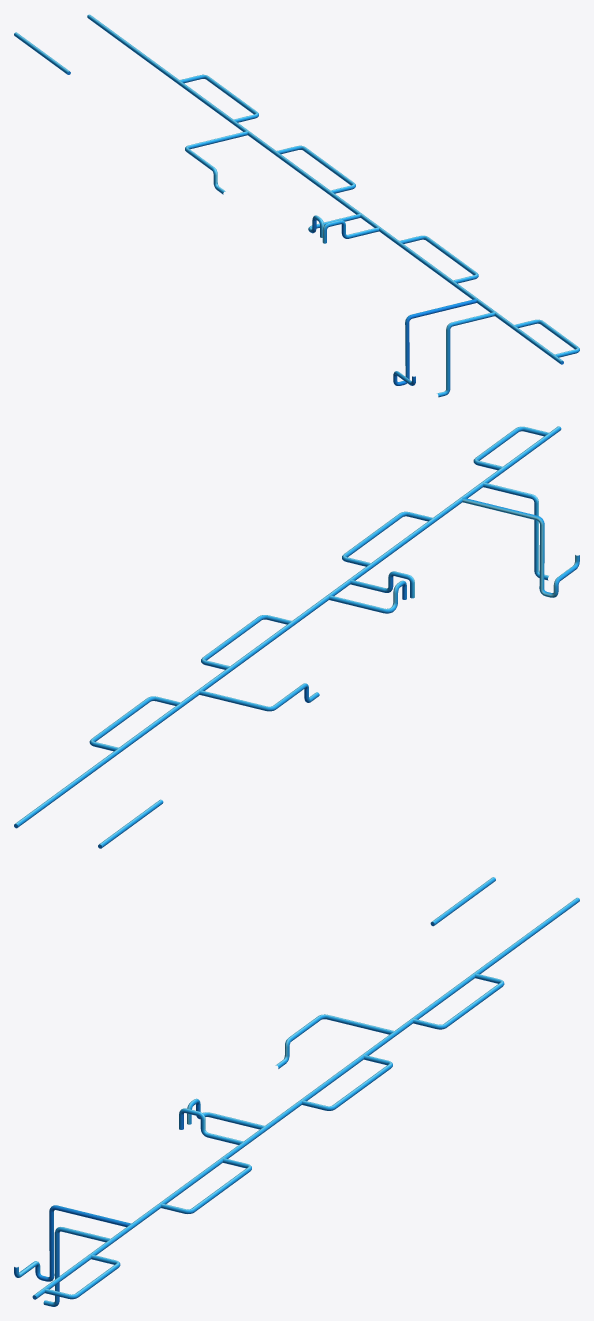
The model's file is LX_KongYa_A5.glb.
The picture shows the model from 3 angles, top to bottom: view 1: azimuth 30°, elevation 25°; view 2: azimuth 150°, elevation 25°; view 3: azimuth 330°, elevation 25°; orthographic projection. The views are drawn at different scales.
Bounding box in the file's own units: 1.82 × 1.37 × 13.37.
Materials: 1 (1 with a texture image).
